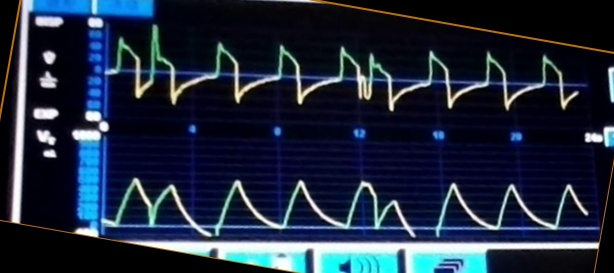Double_Triggering Flow: (109, 24, 511, 115)
Double_Triggering Volume: (105, 169, 513, 235)
